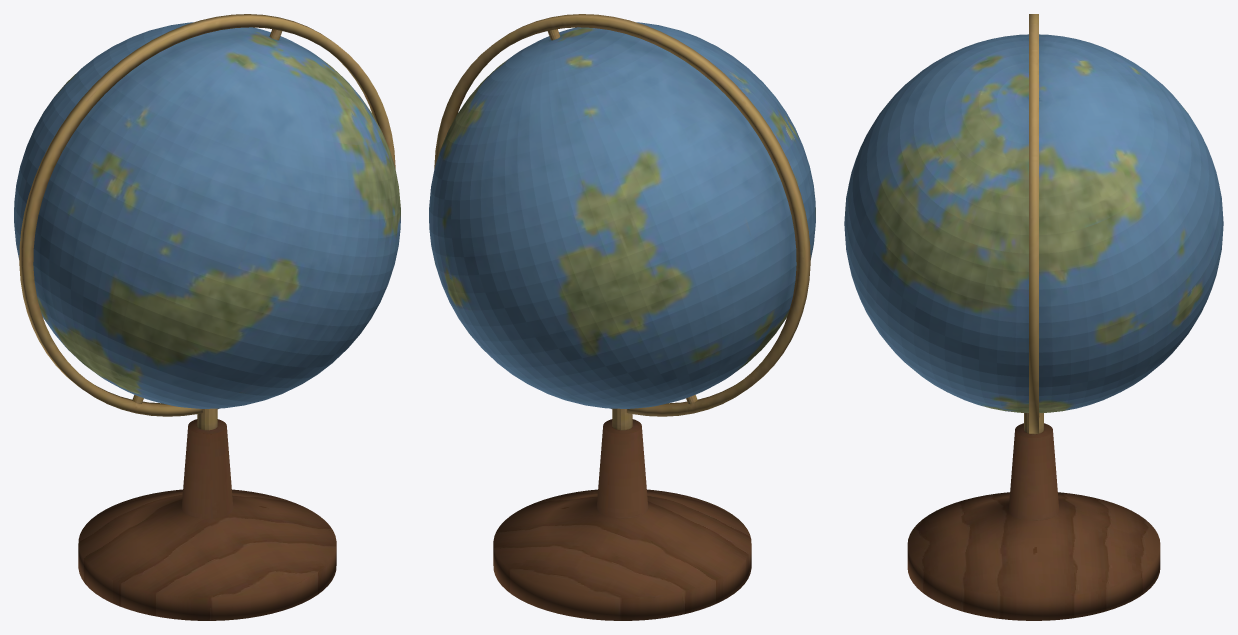
File: wood-stand.glb
3 views of the same model, side by side, from view 1: azimuth 30°, elevation 25°; view 2: azimuth 150°, elevation 25°; view 3: azimuth 270°, elevation 25° (orthographic). The views are drawn at different scales.
Visible parts, largest first — view 1: globe_map, wood_z, brass; view 2: globe_map, wood_z, brass; view 3: globe_map, wood_z, brass.
Part boxes in pixels (left/top/right/bottom): globe_map: left=14, top=22, right=400, bottom=408; wood_z: left=78, top=419, right=336, bottom=620; brass: left=19, top=14, right=395, bottom=430; globe_map: left=429, top=22, right=815, bottom=408; wood_z: left=493, top=419, right=751, bottom=620; brass: left=434, top=14, right=810, bottom=430; globe_map: left=844, top=34, right=1223, bottom=412; wood_z: left=907, top=423, right=1160, bottom=620; brass: left=1024, top=14, right=1043, bottom=434.
Bounding box in the file's own units: 0.3319 × 0.4659 × 0.3.
Materials: 3 (3 with a texture image).
